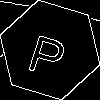P: (25, 25, 72, 79)
